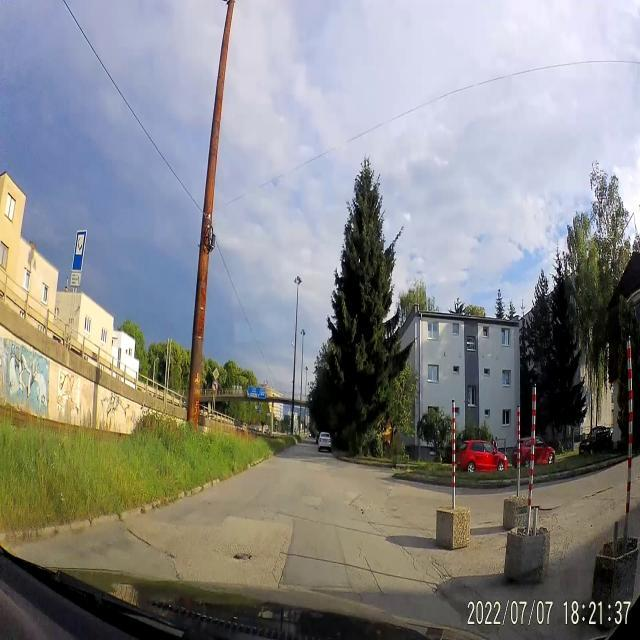Pothole: (124, 526, 154, 548), (230, 546, 259, 566)
